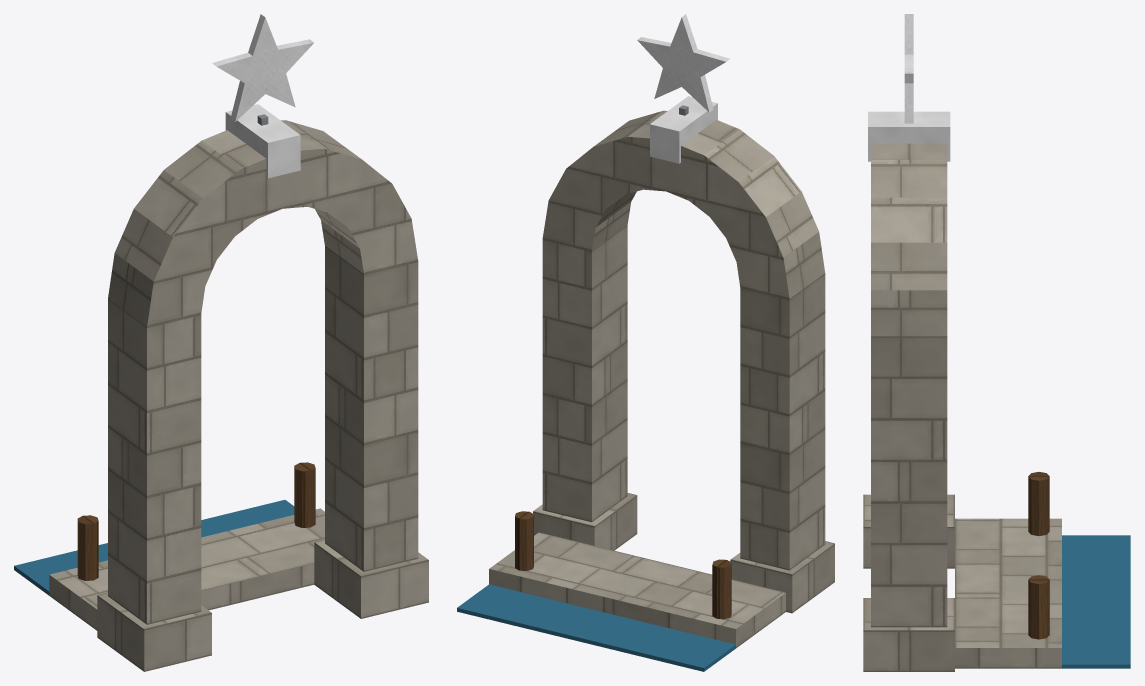
Rendered from protocol.stargate.glb.
The picture shows the model from 3 angles, left to right: view 1: azimuth 30°, elevation 25°; view 2: azimuth 150°, elevation 25°; view 3: azimuth 270°, elevation 25°; orthographic projection. The views are drawn at different scales.
Parts seen in each view (by area): view 1: building.protocol.stargate; view 2: building.protocol.stargate; view 3: building.protocol.stargate.
Boxes of the visible parts, left/top/right/bottom form: building.protocol.stargate: left=14, top=14, right=428, bottom=671; building.protocol.stargate: left=457, top=14, right=834, bottom=671; building.protocol.stargate: left=863, top=14, right=1130, bottom=671.
Size of the model in its own units: 2.1 by 4.26 by 1.75.
6 materials, 5 textured.
